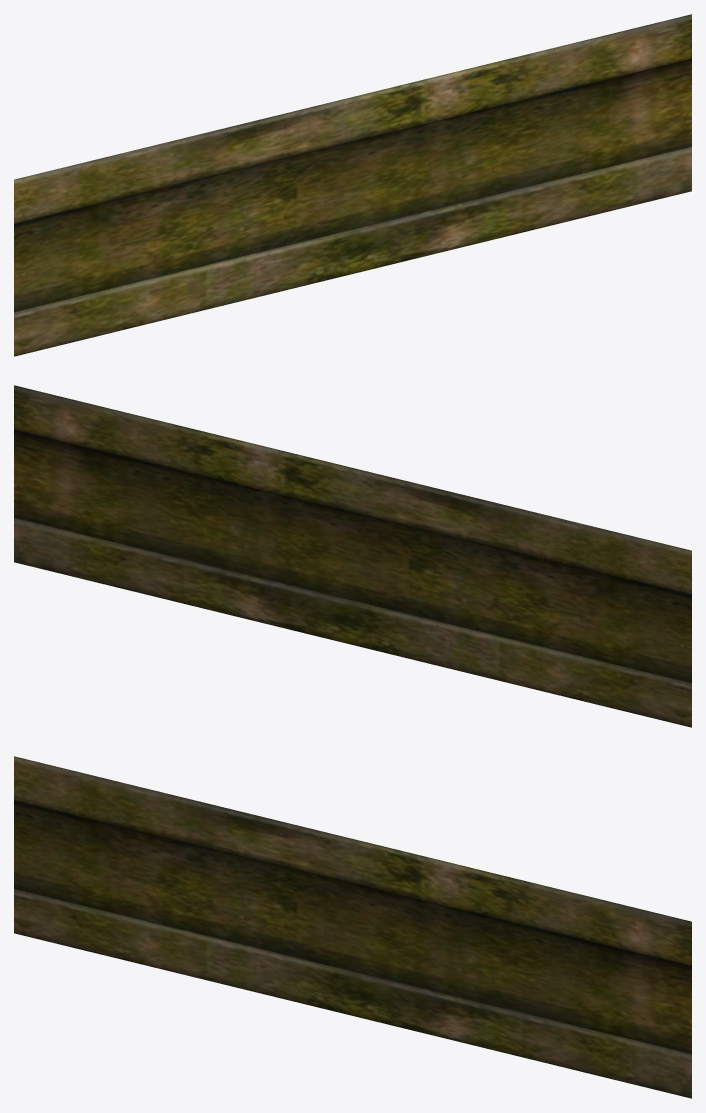
Rendered from OVERHILL_A_01_OBJECT72.fbx.
3 views of the same model, one above another, from view 1: azimuth 30°, elevation 25°; view 2: azimuth 150°, elevation 25°; view 3: azimuth 330°, elevation 25° (orthographic).
Visible parts, largest first — view 1: OVERHILL_A_01_OBJECT72; view 2: OVERHILL_A_01_OBJECT72; view 3: OVERHILL_A_01_OBJECT72.
Boxes of the visible parts, bbox=[...] form: OVERHILL_A_01_OBJECT72: bbox=[14, 14, 691, 356]; OVERHILL_A_01_OBJECT72: bbox=[14, 385, 691, 727]; OVERHILL_A_01_OBJECT72: bbox=[14, 756, 691, 1098].
Bounding box in the file's own units: 24035 × 6000 × 3.61.
Materials: 1 (1 with a texture image).
